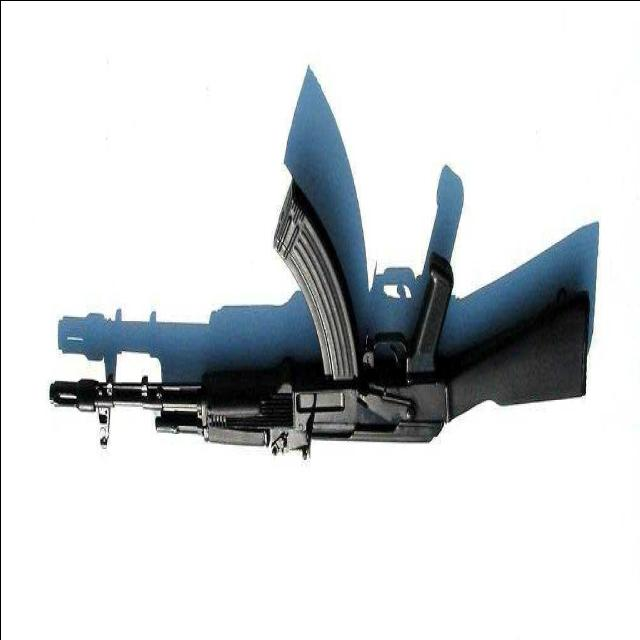heavyweapon: (44, 174, 602, 489)
